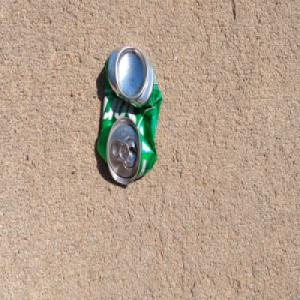SodaCan: (95, 42, 163, 187)
